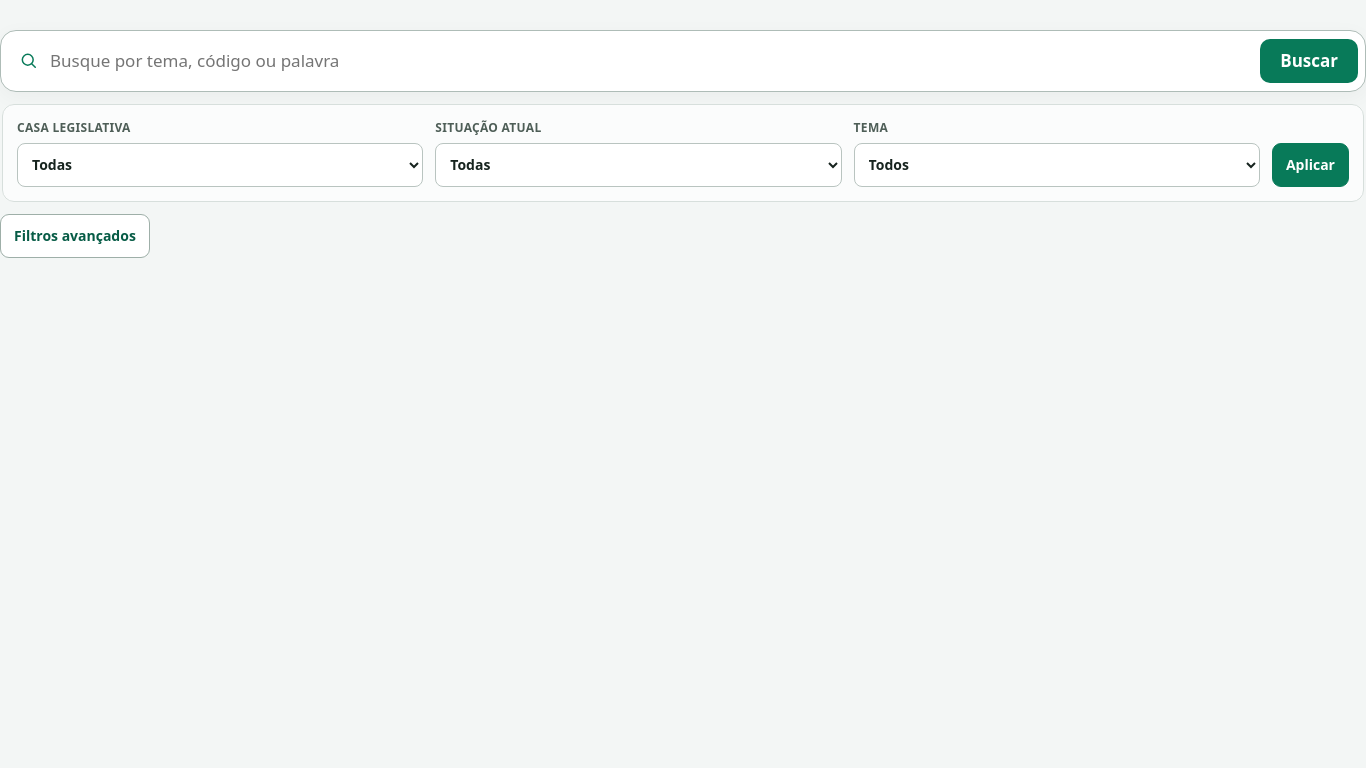
advanced feed filters › requires an account before enabling the followed-project filter
The image size is (1366, 768).
Click the button "Filtros avançados": (75,236) x1=0 y1=214 x2=150 y2=258
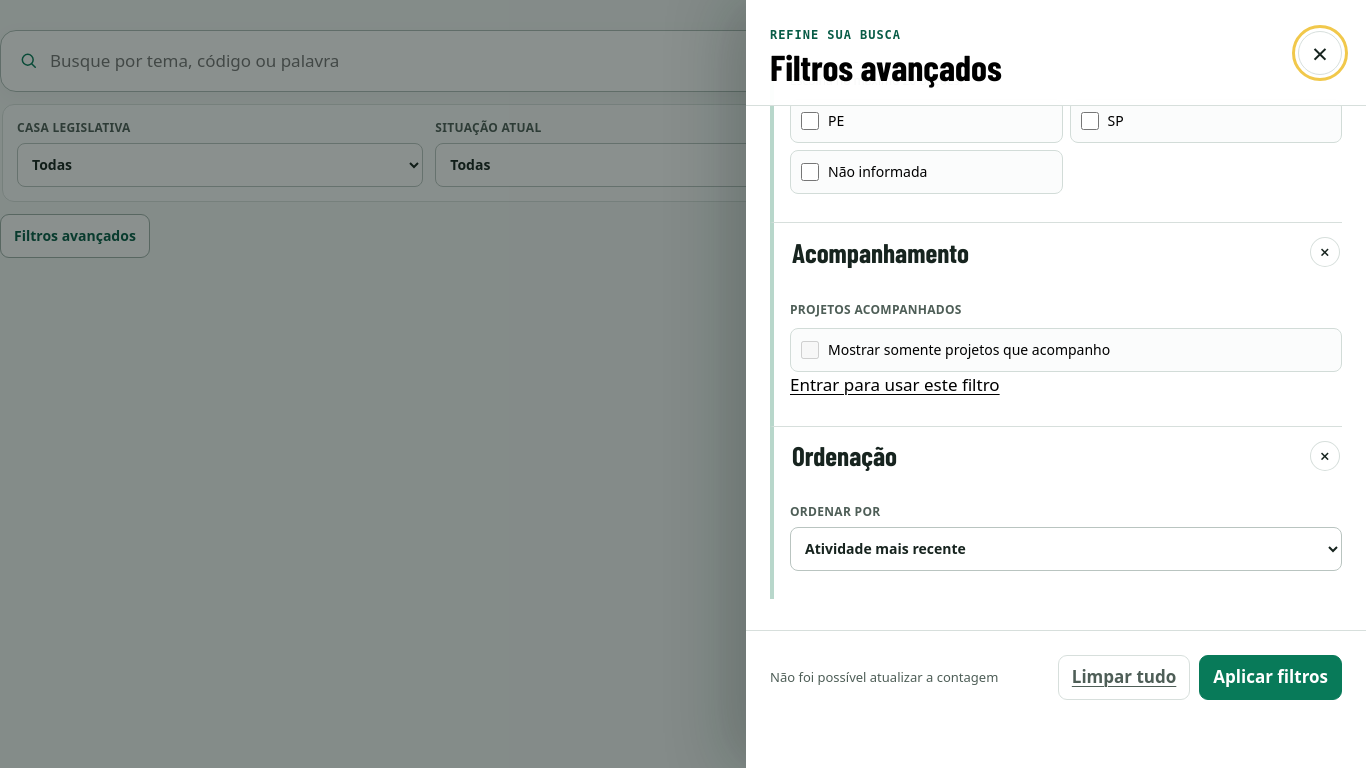
Expected: the checkbox labelled "Mostrar somente projetos que acompanho" is disabled, x1=801 y1=341 x2=819 y2=359
